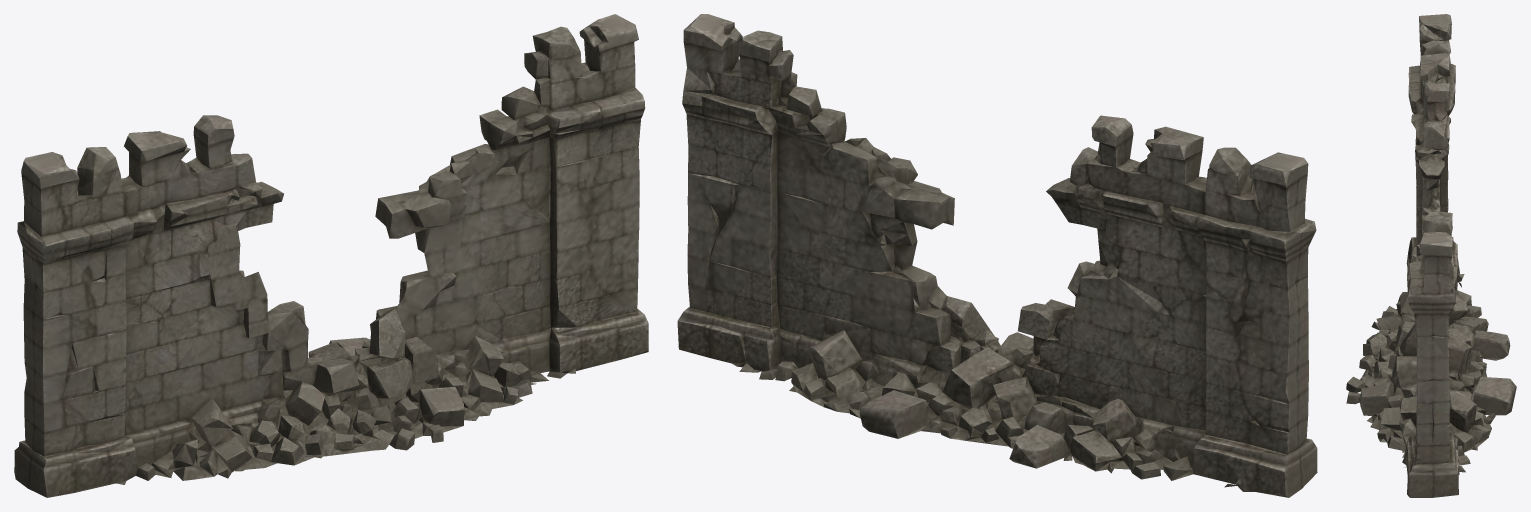
File: wall_segment_destroyed.glb
3 views of the same model, side by side, from view 1: azimuth 30°, elevation 25°; view 2: azimuth 150°, elevation 25°; view 3: azimuth 270°, elevation 25° (orthographic). The views are drawn at different scales.
Parts seen in each view (by area): view 1: output_unwrapped; view 2: output_unwrapped; view 3: output_unwrapped.
Part boxes in pixels (<box>): output_unwrapped: <box>14,14,648,497</box>; output_unwrapped: <box>677,14,1317,497</box>; output_unwrapped: <box>1346,14,1516,497</box>.
Size of the model in its own units: 1.9 by 0.9664 by 0.5896.
Materials: 1 (1 with a texture image).
